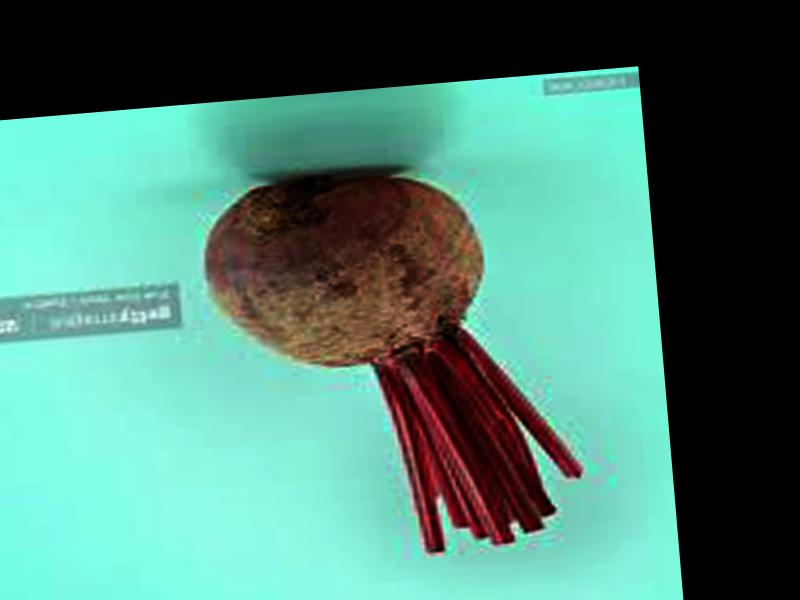Beet: (198, 156, 584, 566)
